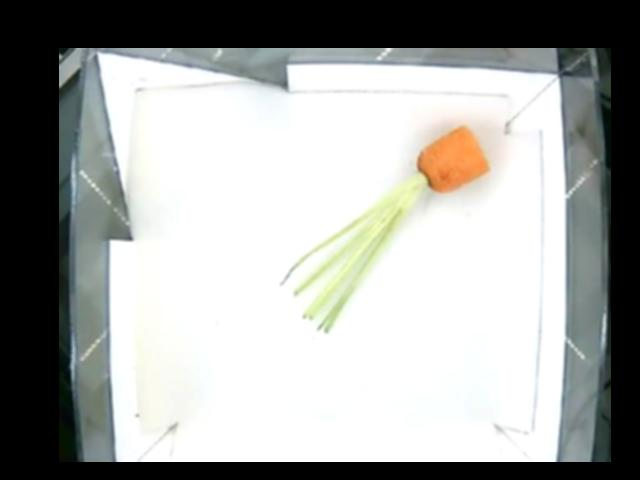Carrot: (372, 123, 491, 226)
